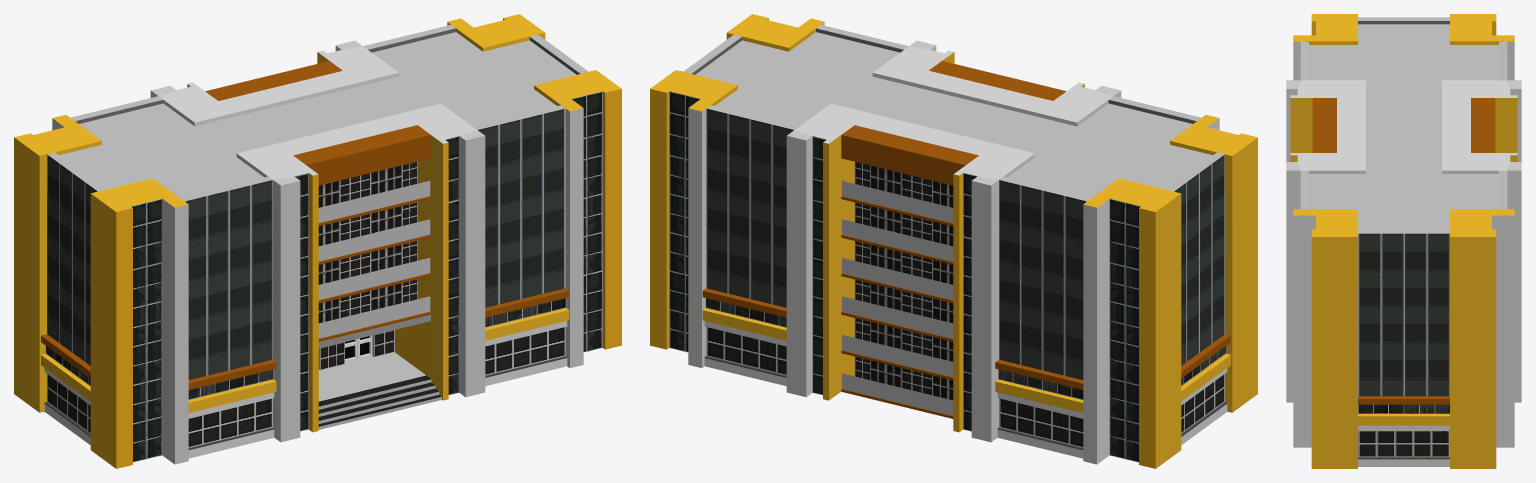
The picture shows the model from 3 angles, left to right: view 1: azimuth 30°, elevation 25°; view 2: azimuth 150°, elevation 25°; view 3: azimuth 270°, elevation 25°; orthographic projection. The views are drawn at different scales.
Parts seen in each view (by area): view 1: Building; view 2: Building; view 3: Building.
Part boxes in pixels (x1,y1,x2,y2): Building: [14, 14, 621, 468]; Building: [650, 14, 1257, 468]; Building: [1286, 14, 1521, 468].
Size of what is drawn, in the model's own units: 41.21 by 20 by 18.36.
